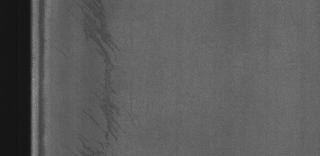water spot: (75, 2, 133, 152)
